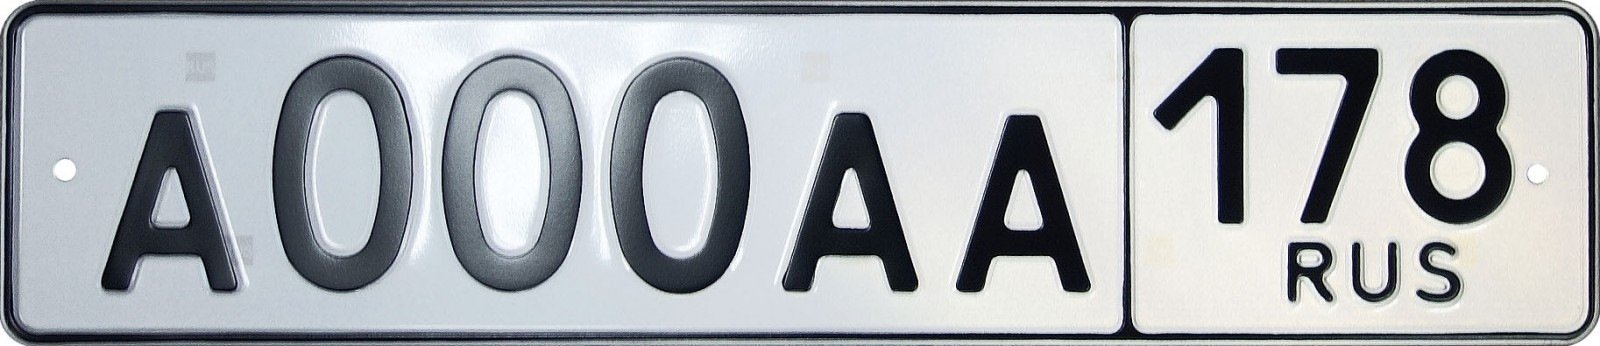number_plate: (22, 24, 1582, 340)
